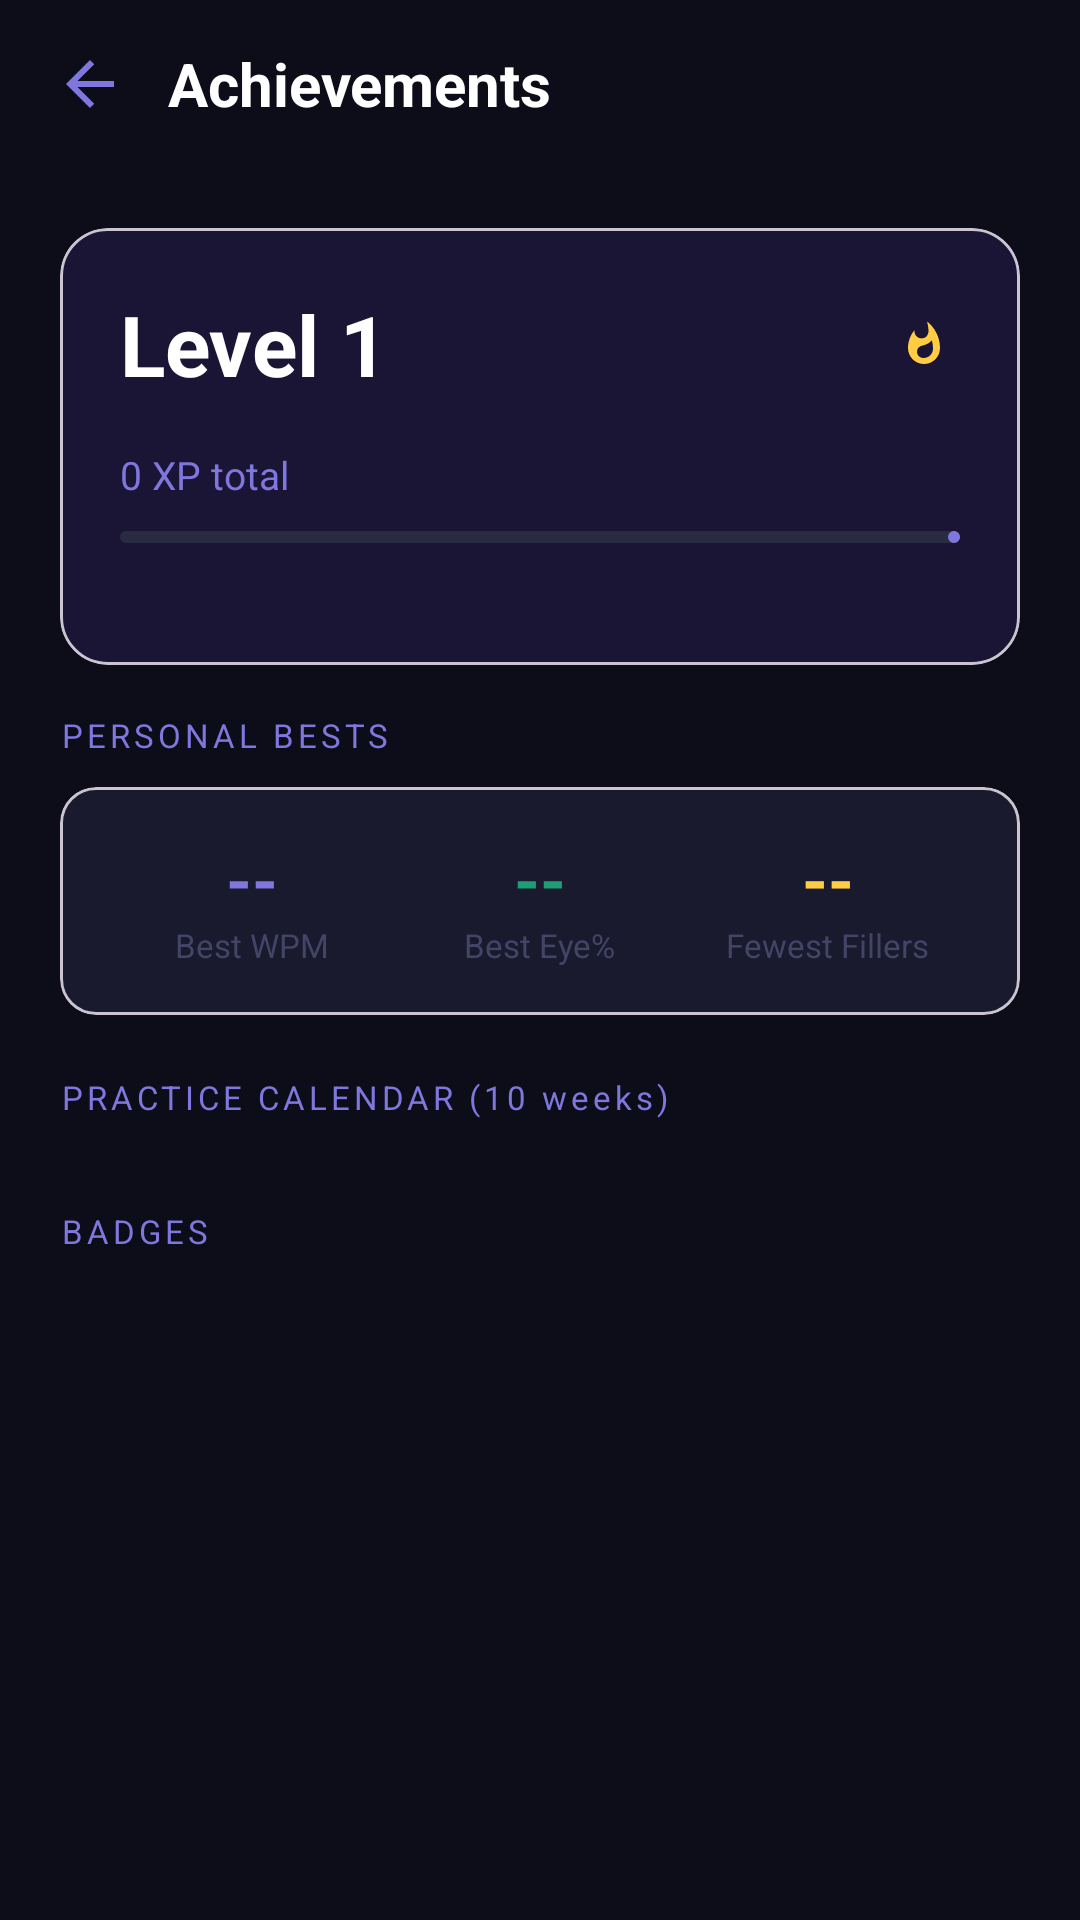

Icons on this 1080 × 1920 Android screen, each with its box as [x1, y1, x2, y2]:
Back: [66, 60, 114, 108]
Streak fire: [908, 321, 940, 364]
